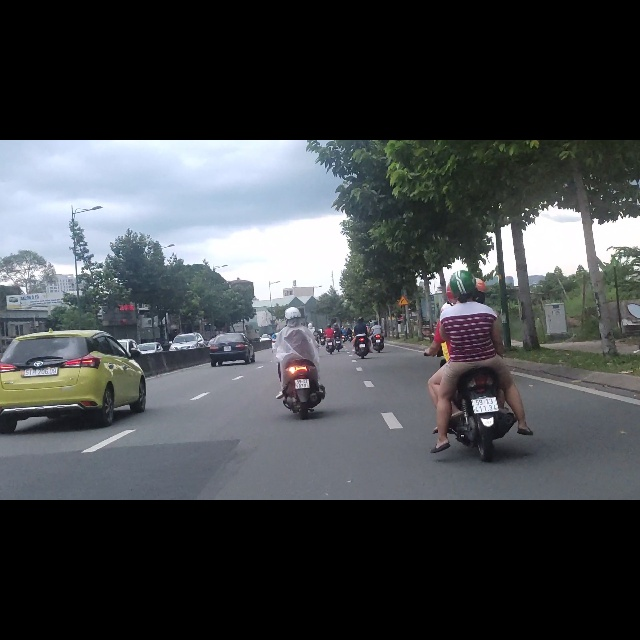bien_nguy_hiem: (397, 276, 409, 293)
